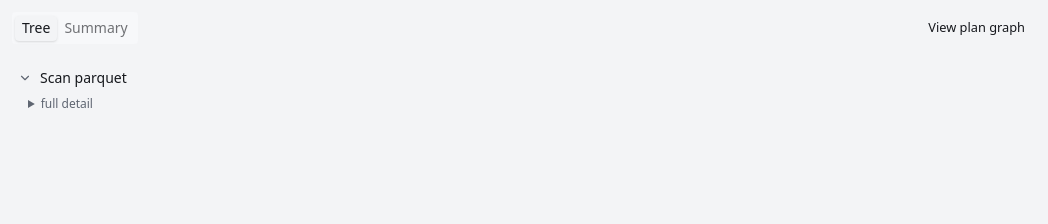
PlanView › shows a "full detail" toggle on a scan node, revealing its full structured fields
The width and height of the screenshot is (1048, 224).
Expected: the text "Columns" is not shown
Click the heading "full detail" at (67, 104), box [41, 95, 93, 112]
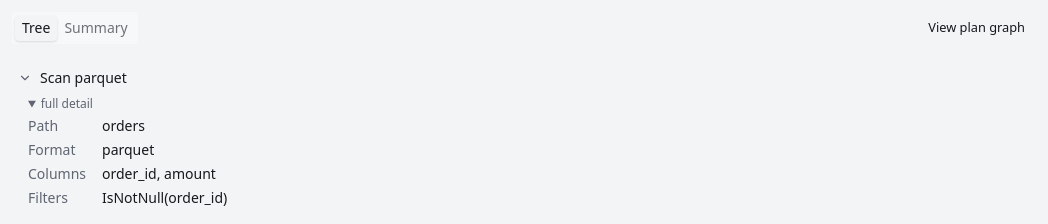
Expected: the text "Format" is shown, [28, 140, 76, 159]
Expected: the text "parquet" is shown, [102, 140, 154, 159]
Expected: the text "Columns" is shown, [28, 164, 86, 184]
